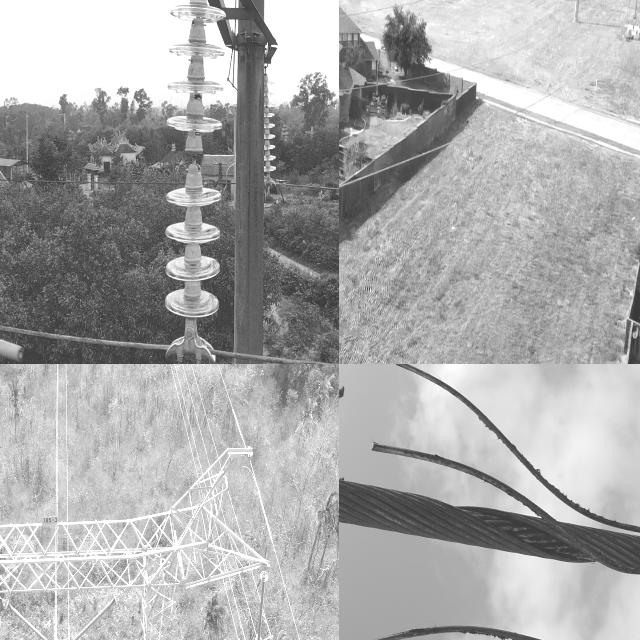杆塔: (0, 440, 278, 640)
正常电缆: (0, 311, 157, 356)
正常绝缘子: (163, 0, 225, 364), (1, 594, 55, 640), (68, 593, 119, 640), (254, 567, 269, 640)
电缆破损: (339, 364, 640, 640)
绝缘子破损: (184, 142, 205, 178)
